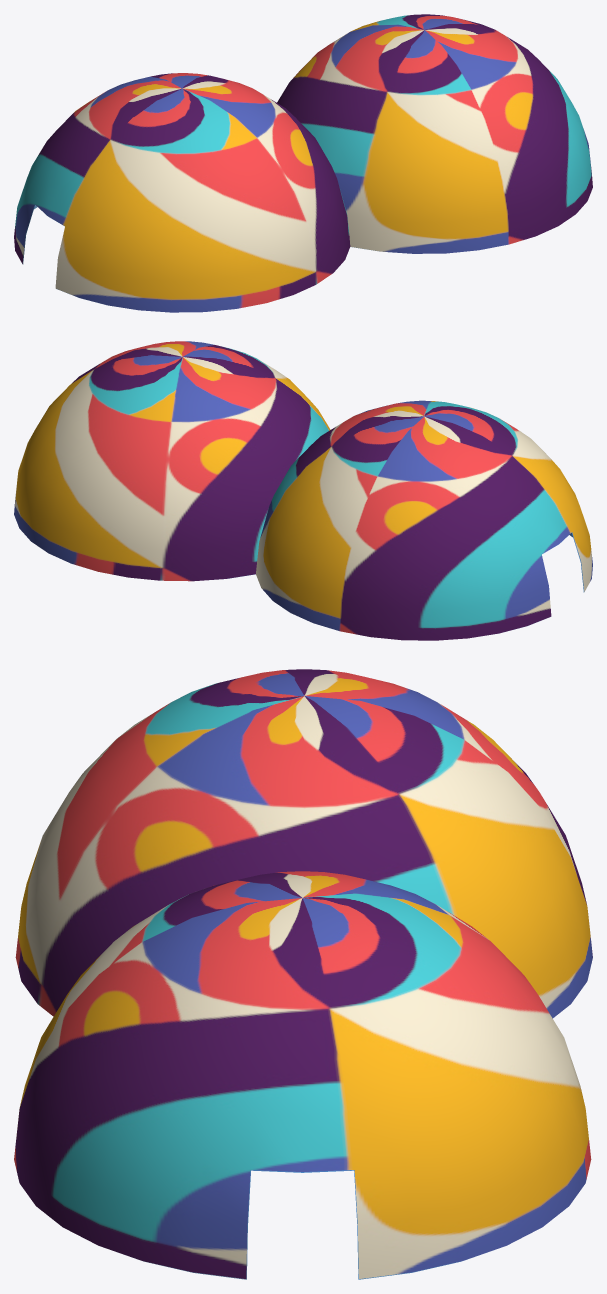
Rendered from Domoobj.obj.
3 renders of one model, top to bottom at view 1: azimuth 30°, elevation 25°; view 2: azimuth 150°, elevation 25°; view 3: azimuth 270°, elevation 25°, orthographic. The views are drawn at different scales.
Parts seen in each view (by area): view 1: DomoExt; view 2: DomoExt; view 3: DomoExt.
Boxes of the visible parts, x1,y1,x2,y2 form: DomoExt: [14, 14, 592, 312]; DomoExt: [14, 341, 592, 640]; DomoExt: [14, 669, 592, 1278].
Size of the model in its own units: 84.9 by 23.54 by 47.08.
